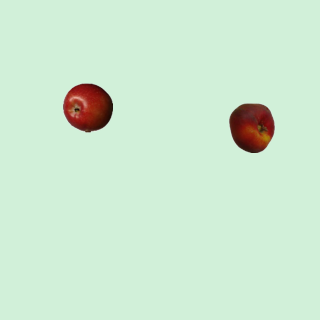Apple Braeburn: (62, 82, 112, 132)
Nectarine Flat: (226, 102, 276, 152)
